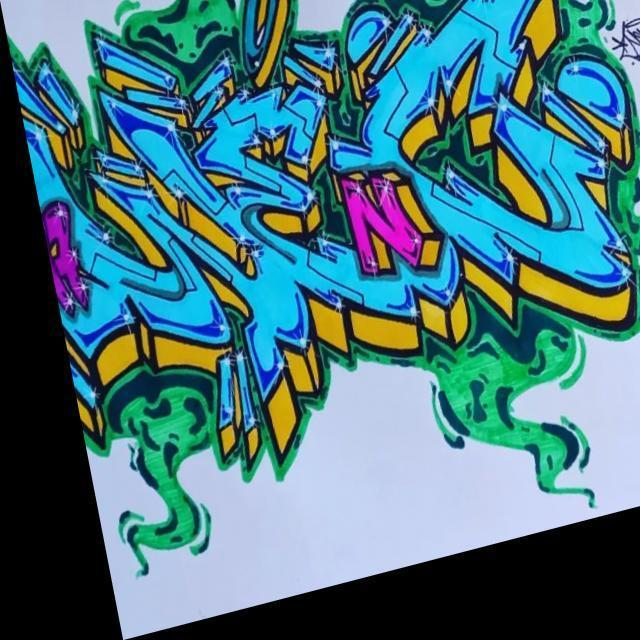-: (0, 0, 640, 633), (329, 167, 432, 311), (30, 185, 91, 323), (604, 30, 640, 124)
